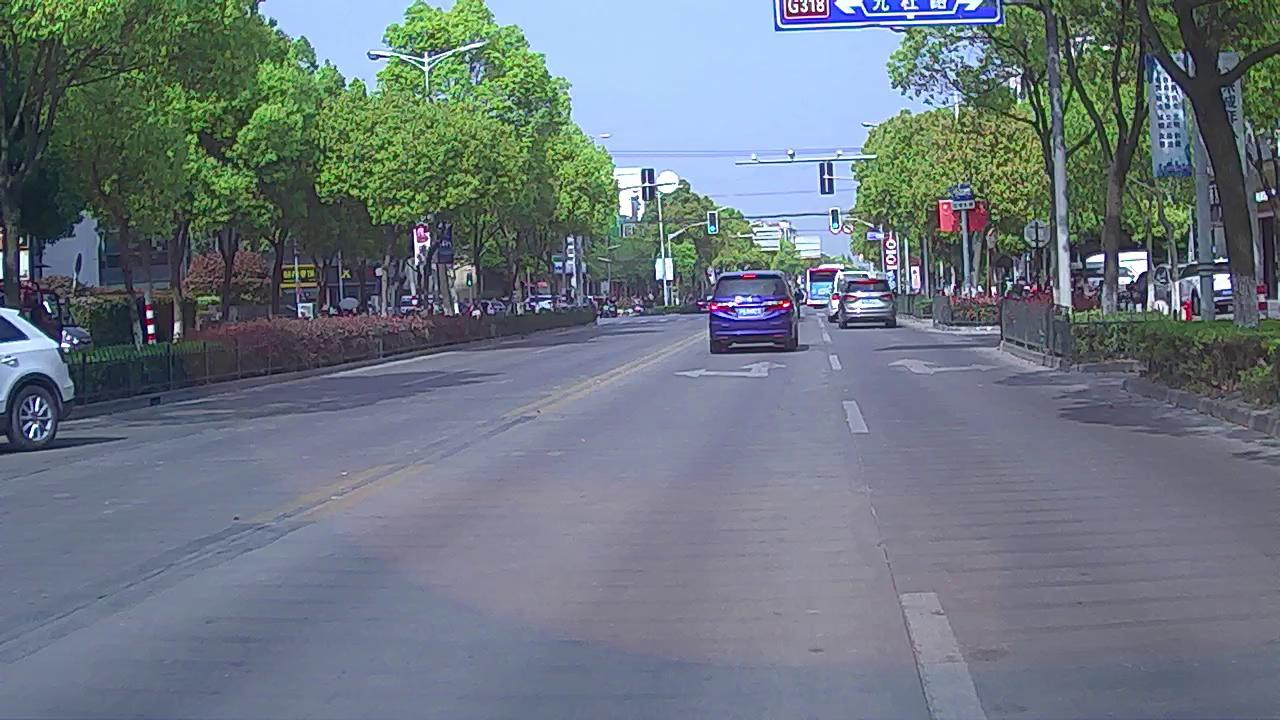traffic_light: (708, 212, 718, 233), (831, 208, 839, 229)
